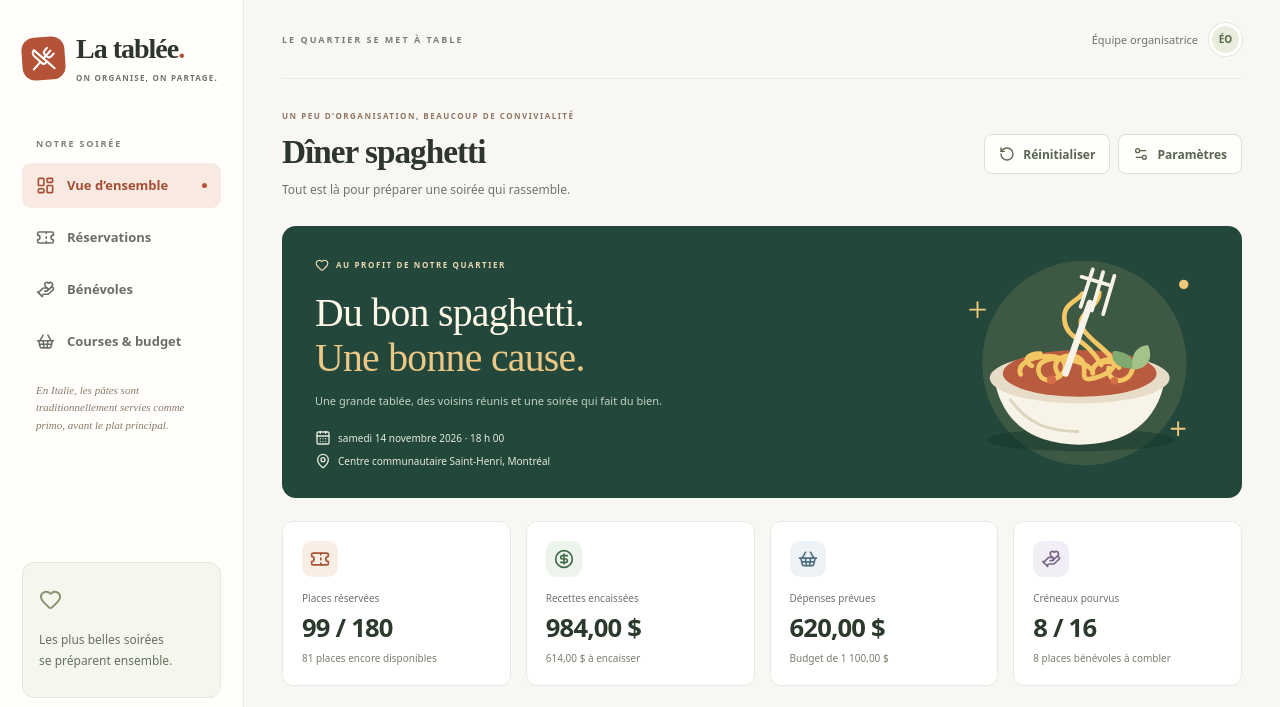
organizer interface › only removes a reservation after confirmation
Expected: the heading "Du bon spaghetti.Une bonne cause." is shown, x1=315 y1=291 x2=585 y2=380
Step 1. Click the button "Réservations" → coordinates (122, 237), box x1=22 y1=215 x2=221 y2=260
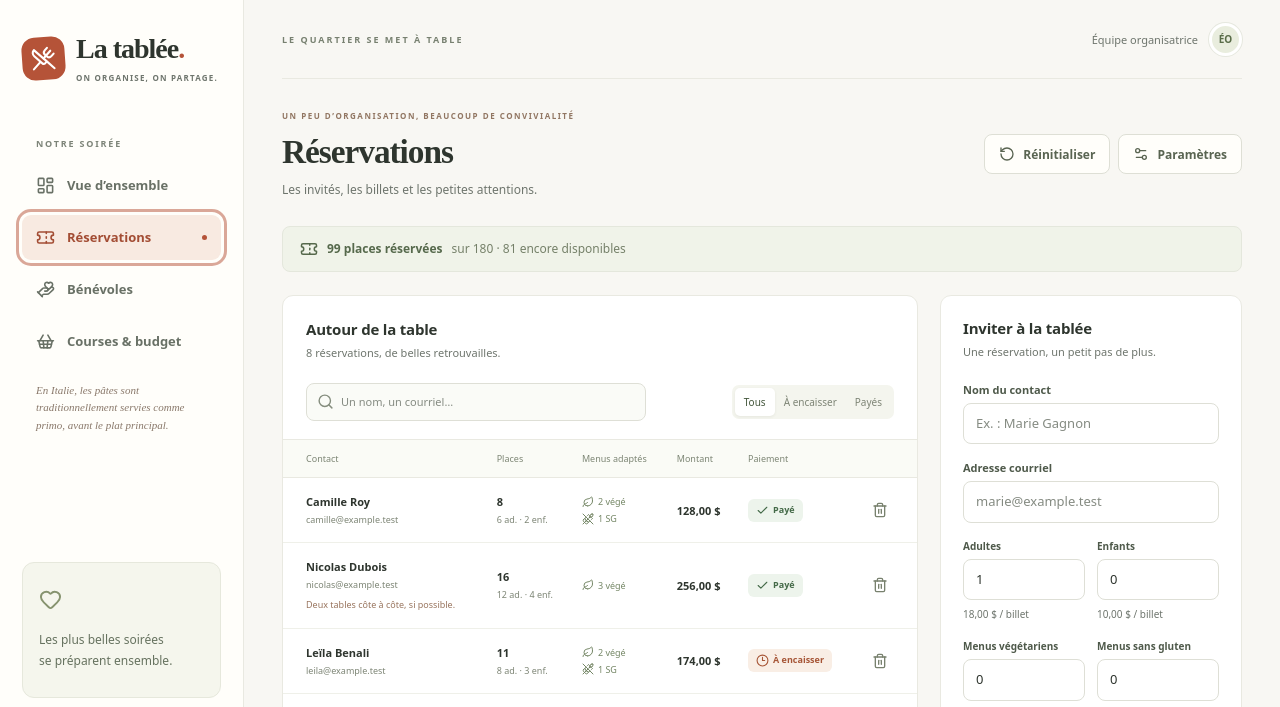
Step 2. Click the button named "Supprimer la réservation de Camille Roy" → coordinates (880, 510), box x1=864 y1=494 x2=896 y2=526
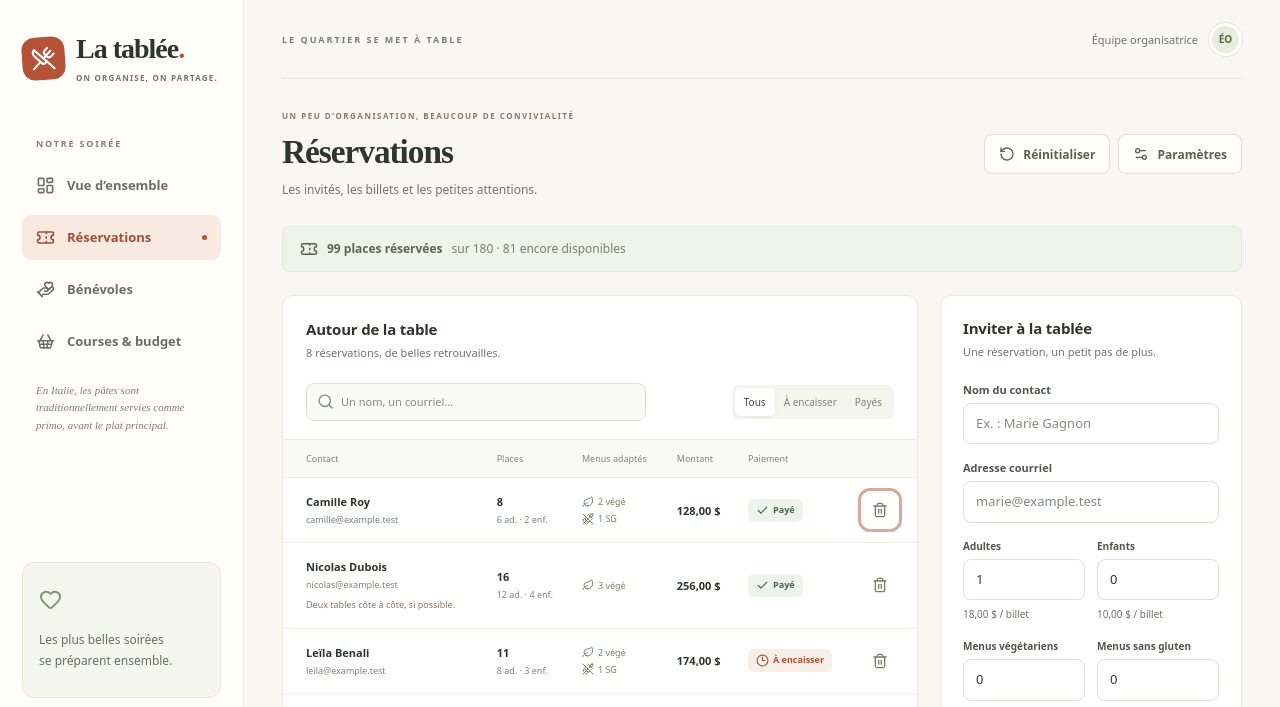
Step 3. Click the button named "Supprimer la réservation de Camille Roy" → coordinates (880, 510), box x1=864 y1=494 x2=896 y2=526
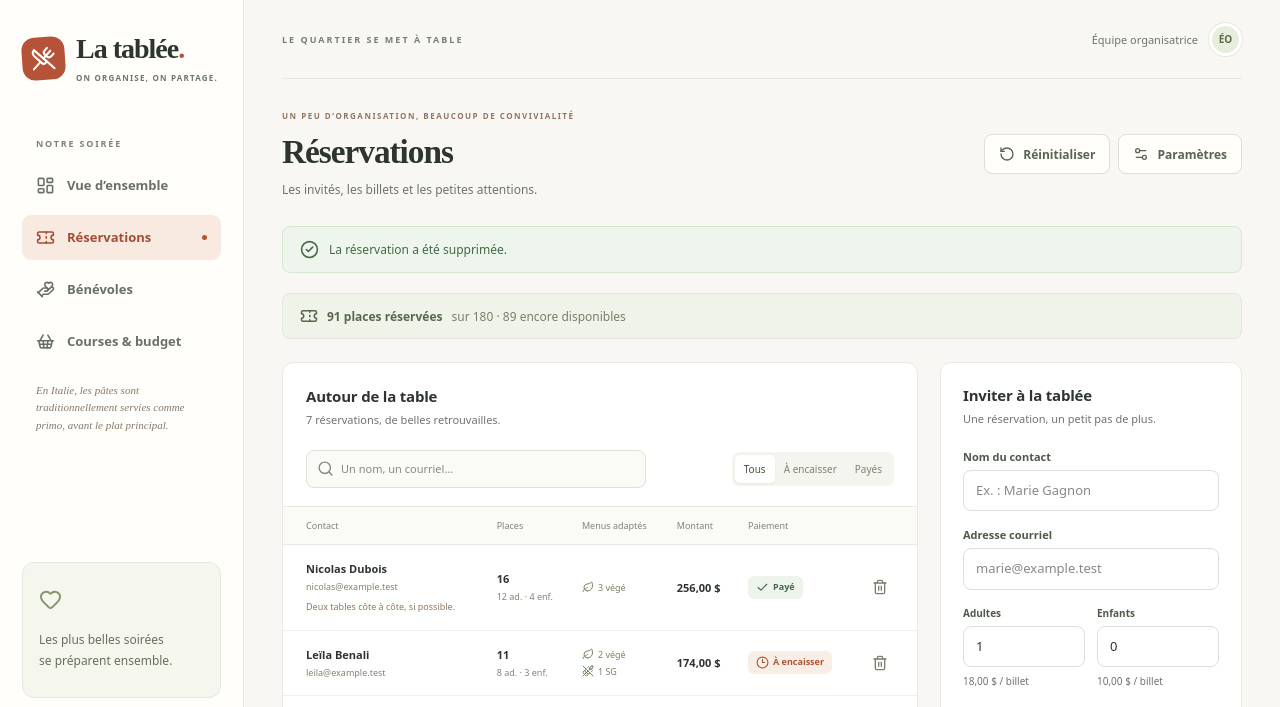
Expected: the text "Camille Roy" is gone
